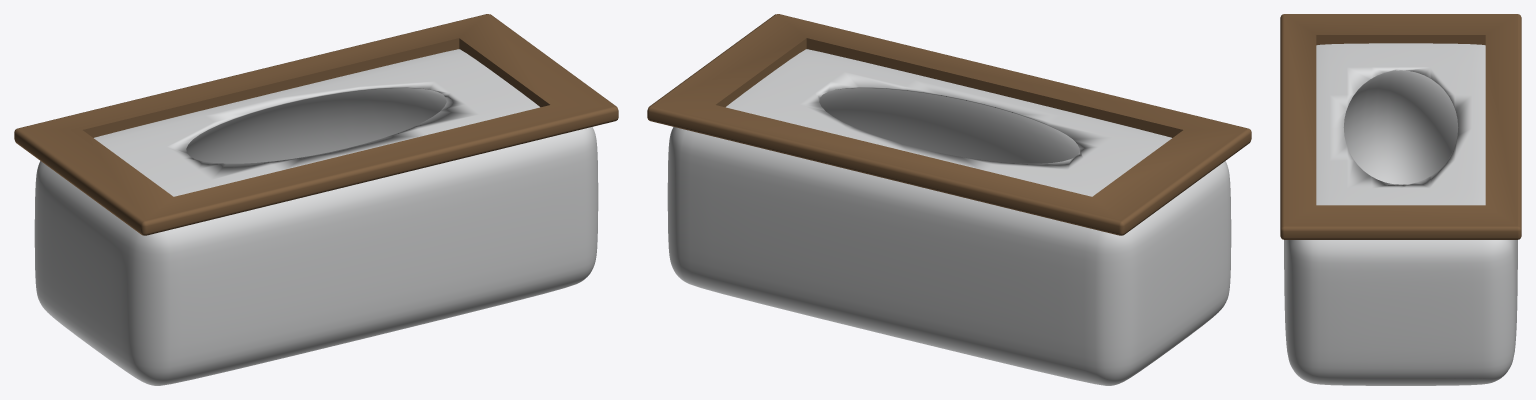
Rendered from bathtub.glb.
3 views of the same model, side by side, from view 1: azimuth 30°, elevation 25°; view 2: azimuth 150°, elevation 25°; view 3: azimuth 270°, elevation 25° (orthographic). The views are drawn at different scales.
Visible parts, largest first — view 1: shell; view 2: shell; view 3: shell.
Boxes of the visible parts, left/top/right/bottom form: shell: left=14, top=14, right=618, bottom=385; shell: left=647, top=14, right=1251, bottom=385; shell: left=1280, top=14, right=1521, bottom=385.
Bounding box in the file's own units: 1.52 × 0.5703 × 0.72.
